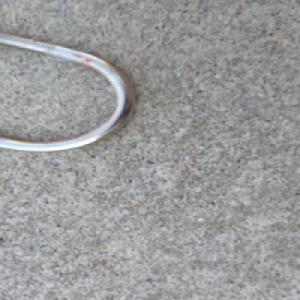ClampPart: (0, 31, 139, 155)
